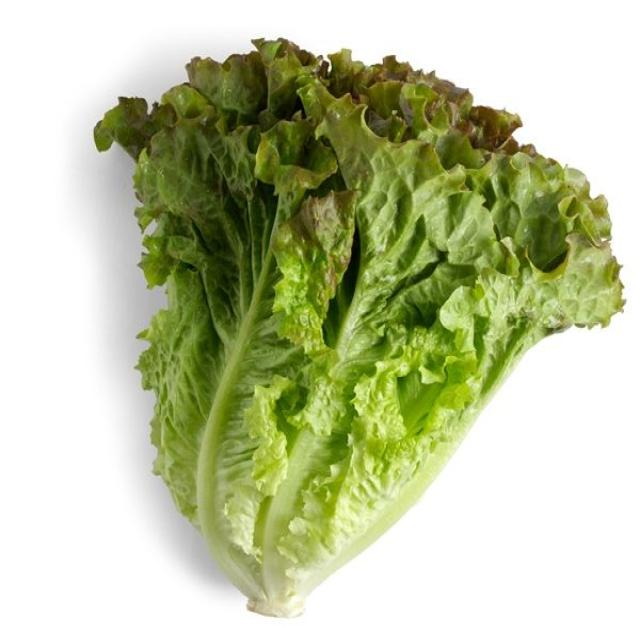lettuce: (95, 41, 621, 615)
